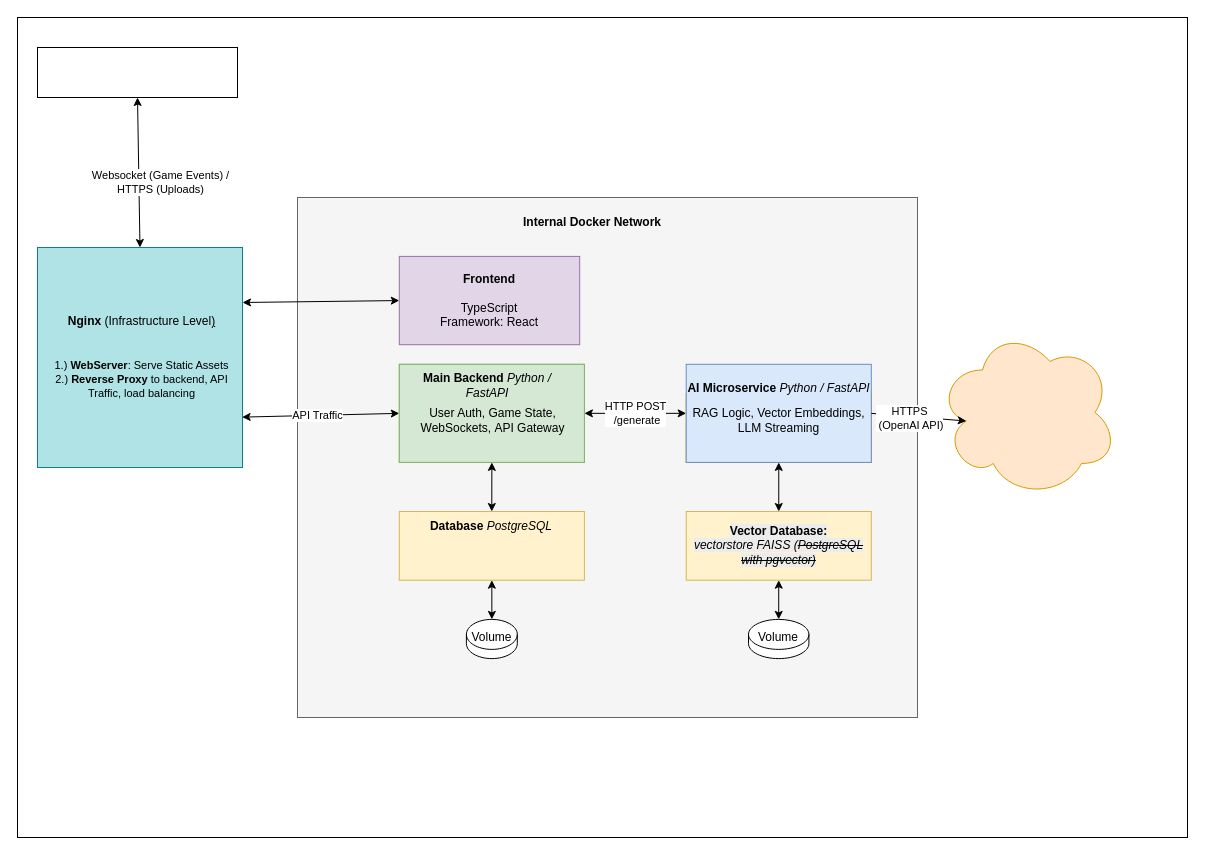
Some shapes in this 1205 by 855 pixel diagram are drawn without their labels. The box of each missing label's shape, as (x1, y1, x2, y2) in pixels:
LLM Provider (OpenAI): (936, 326, 1118, 498)
Users, Match History, Scores: (398, 510, 584, 580)
Web Browser (Client): (36, 46, 238, 98)
